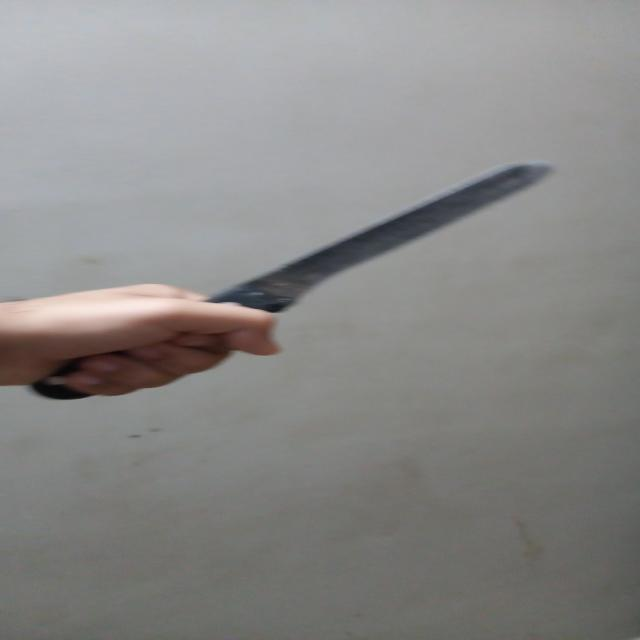Knife: (29, 156, 576, 408)
